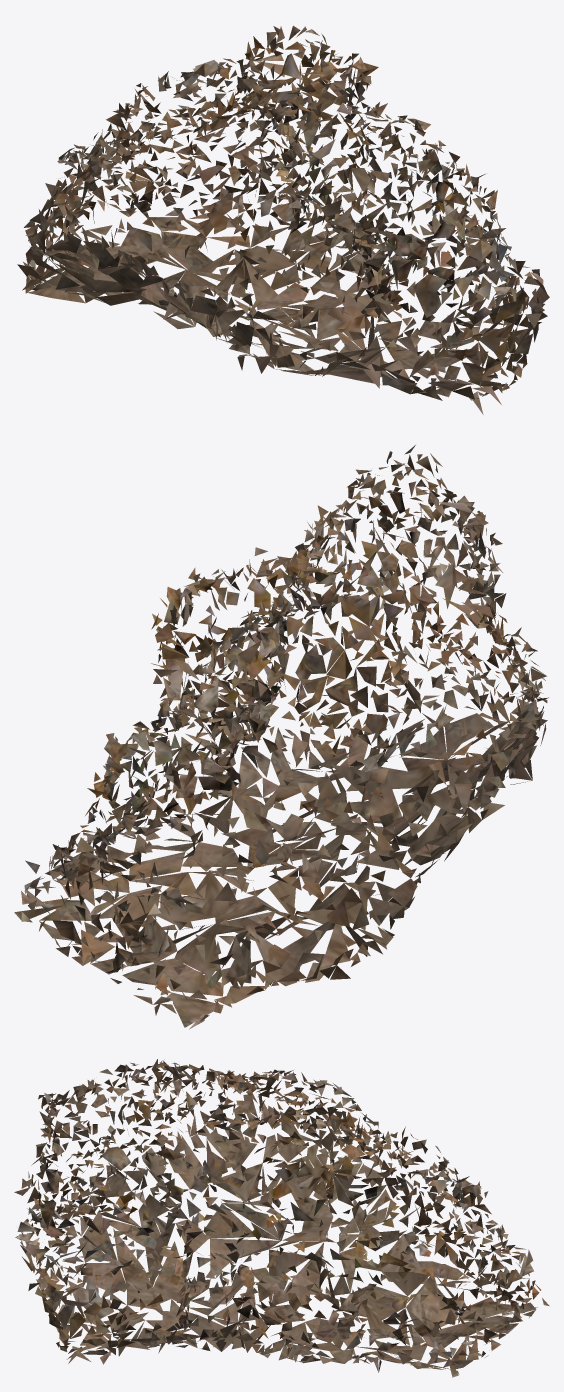
File: boulder-01.glb
3 views of the same model, one above another, from view 1: azimuth 30°, elevation 25°; view 2: azimuth 150°, elevation 25°; view 3: azimuth 270°, elevation 25° (orthographic). The views are drawn at different scales.
Visible parts, largest first — view 1: boulder_01; view 2: boulder_01; view 3: boulder_01.
Boxes of the visible parts, x1,y1,x2,y2 form: boulder_01: (17,25,549,414); boulder_01: (14,445,548,1029); boulder_01: (14,1059,549,1377).
Bounding box in the file's own units: 1.29 × 0.9869 × 1.85.
1 material, 1 textured.
